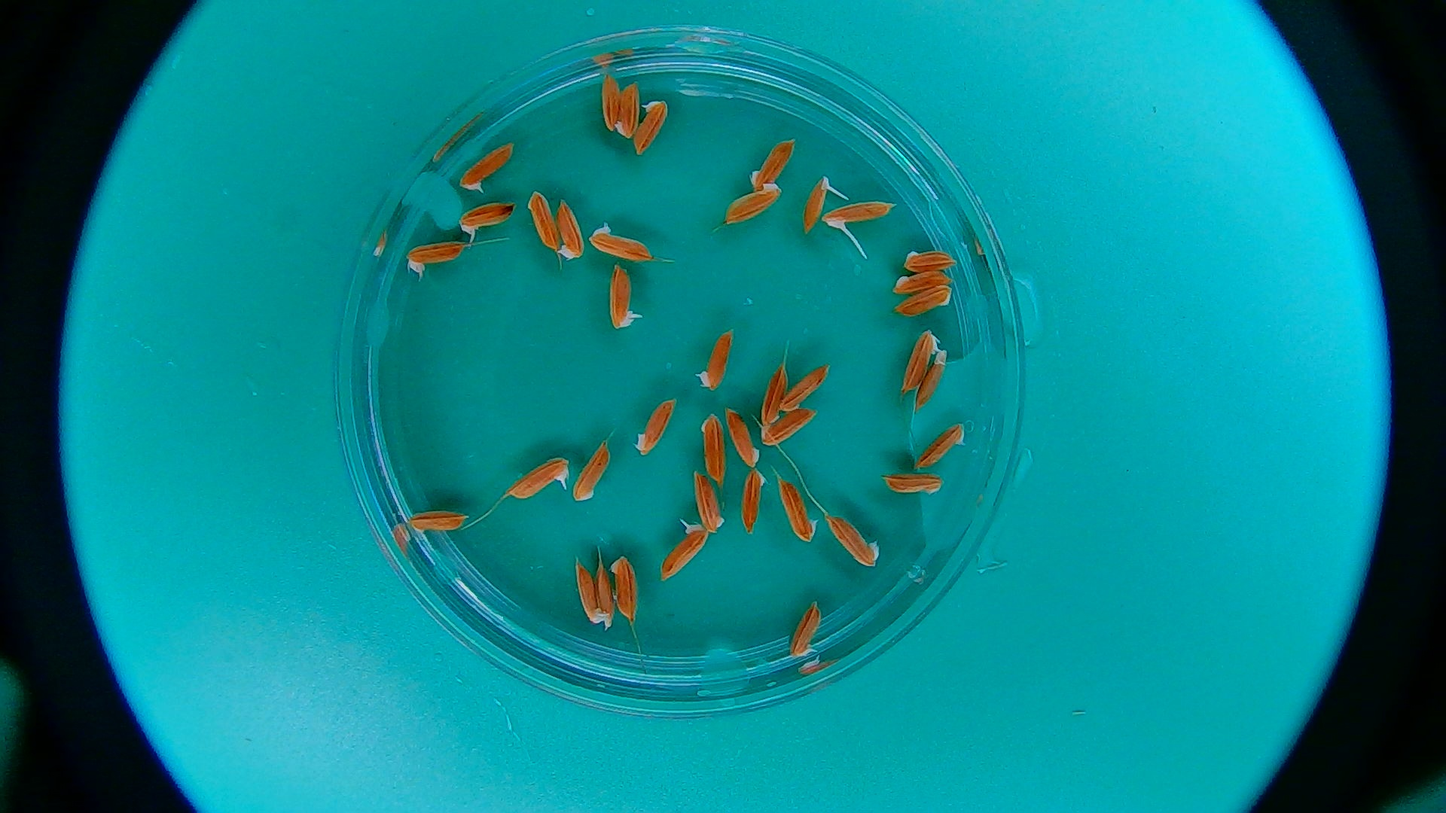no: (748, 137, 797, 196), (825, 513, 878, 566), (588, 224, 659, 263), (721, 184, 782, 226), (570, 442, 612, 502), (902, 326, 938, 396), (911, 350, 951, 413), (567, 555, 601, 627), (914, 425, 968, 470), (781, 479, 818, 543), (784, 364, 833, 410), (611, 553, 642, 624), (724, 408, 761, 467), (697, 470, 731, 534), (636, 399, 675, 454), (740, 469, 770, 540), (554, 199, 588, 261), (699, 327, 732, 390), (697, 415, 728, 480), (765, 413, 822, 448), (525, 190, 557, 252), (894, 285, 953, 317), (634, 99, 668, 153), (406, 507, 471, 534), (880, 473, 942, 497), (889, 269, 954, 291), (902, 247, 956, 273), (598, 556, 616, 633), (617, 83, 639, 145), (761, 368, 784, 427), (599, 71, 618, 136)
yes: (660, 522, 710, 580), (509, 455, 569, 501), (821, 200, 896, 233), (460, 147, 514, 189), (786, 602, 822, 658), (802, 174, 834, 231), (404, 239, 466, 268), (459, 201, 515, 233), (606, 261, 633, 327)
